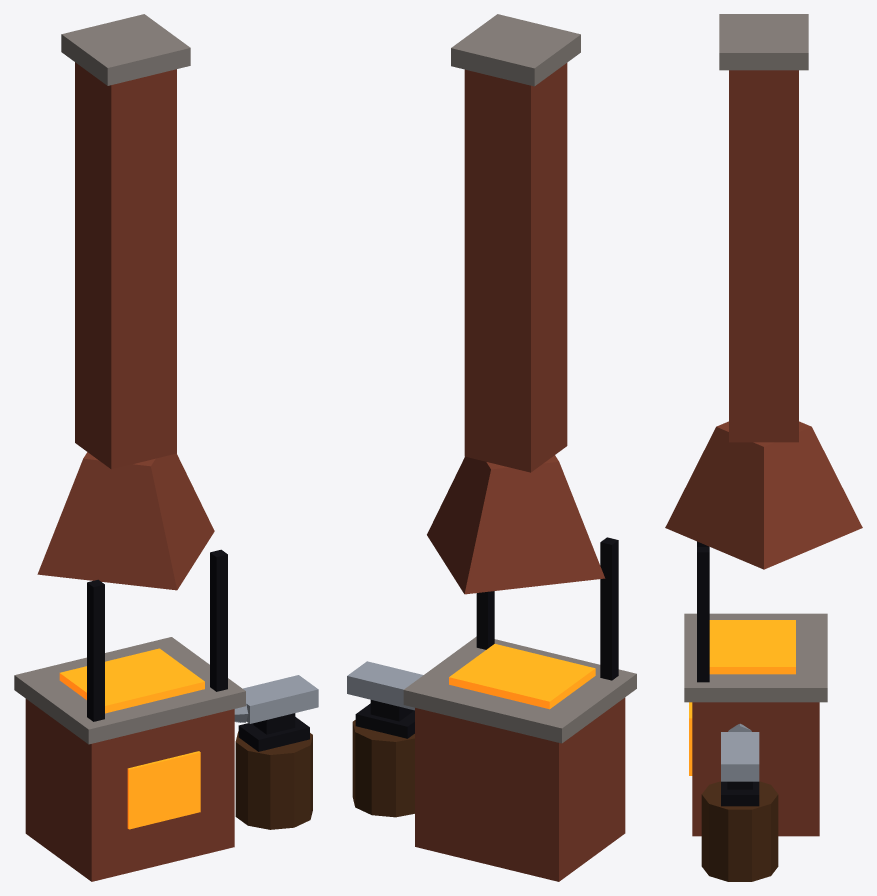
File: shop_smith_yard.gltf
3 views of the same model, side by side, from view 1: azimuth 30°, elevation 25°; view 2: azimuth 150°, elevation 25°; view 3: azimuth 270°, elevation 25° (orthographic). The views are drawn at different scales.
Visible parts, largest first — view 1: ShopSmithYardShopBrick, ShopSmithYardShopStone, ShopSmithYardShopEmber, ShopSmithYardShopIron, ShopSmithYardShopWood, ShopSmithYardShopSteel; view 2: ShopSmithYardShopBrick, ShopSmithYardShopStone, ShopSmithYardShopEmber, ShopSmithYardShopIron, ShopSmithYardShopWood, ShopSmithYardShopSteel; view 3: ShopSmithYardShopBrick, ShopSmithYardShopStone, ShopSmithYardShopWood, ShopSmithYardShopEmber, ShopSmithYardShopIron, ShopSmithYardShopSteel.
Part boxes in pixels (x1,y1,x2,y2): ShopSmithYardShopBrick: (25,62,234,881); ShopSmithYardShopStone: (14,14,245,744); ShopSmithYardShopEmber: (59,648,204,829); ShopSmithYardShopIron: (87,549,309,751); ShopSmithYardShopWood: (235,731,312,829); ShopSmithYardShopSteel: (234,675,318,723); ShopSmithYardShopBrick: (415,63,625,881); ShopSmithYardShopStone: (403,14,636,743); ShopSmithYardShopEmber: (449,644,595,709); ShopSmithYardShopIron: (355,537,618,738); ShopSmithYardShopWood: (352,720,414,817); ShopSmithYardShopSteel: (347,661,423,710); ShopSmithYardShopBrick: (665,70,862,836); ShopSmithYardShopStone: (684,14,827,702); ShopSmithYardShopWood: (701,781,778,881); ShopSmithYardShopEmber: (689,620,795,775); ShopSmithYardShopIron: (697,541,759,806); ShopSmithYardShopSteel: (721,723,759,781).
Size of what is drawn, in the model's own units: 1.81 by 5.32 by 1.24.
